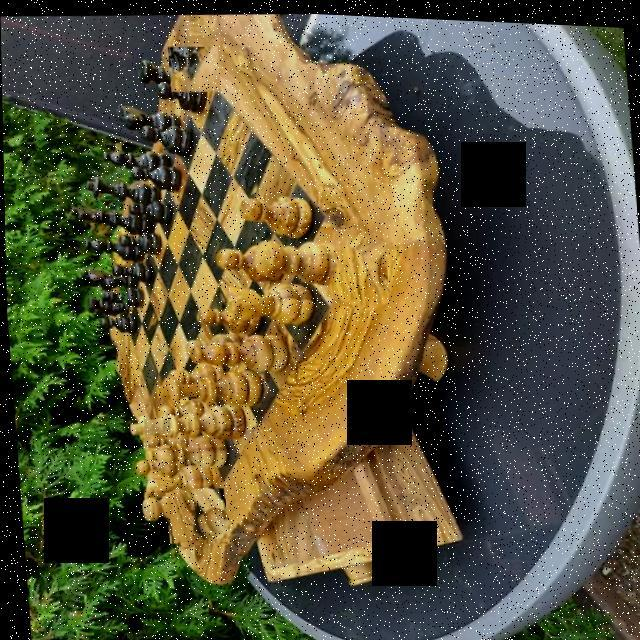chess-table-corners: (326, 224, 390, 308), (160, 484, 228, 548), (167, 42, 220, 92), (98, 275, 127, 318)
